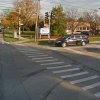crosswalk: (18, 49, 100, 97)
